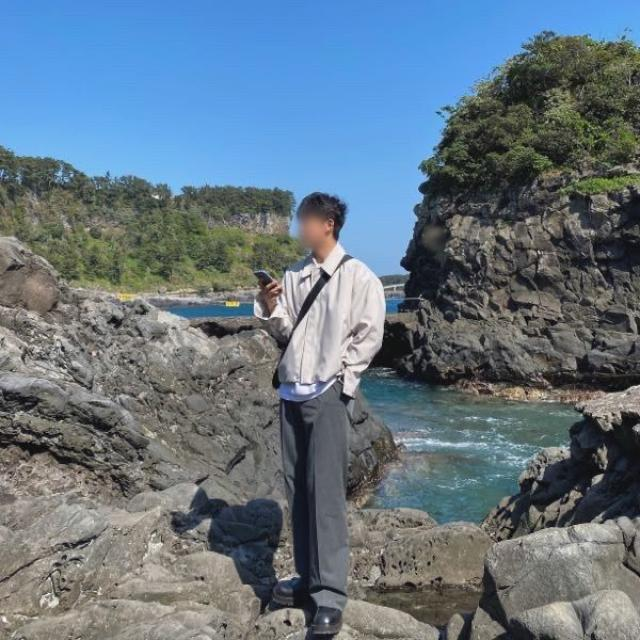jacket: (258, 252, 386, 408)
slacks: (280, 372, 351, 626)
